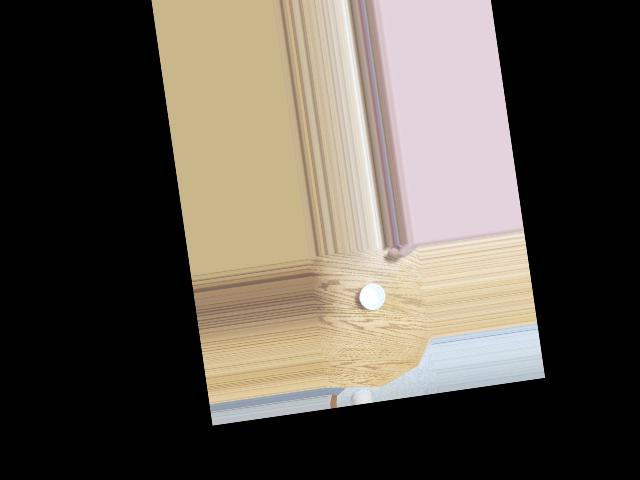cotage: (358, 279, 389, 311)
